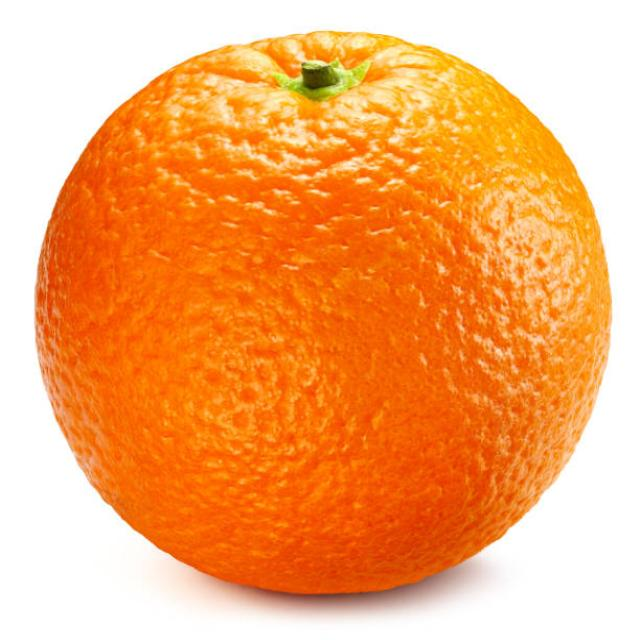Ripe: (31, 23, 617, 602)
